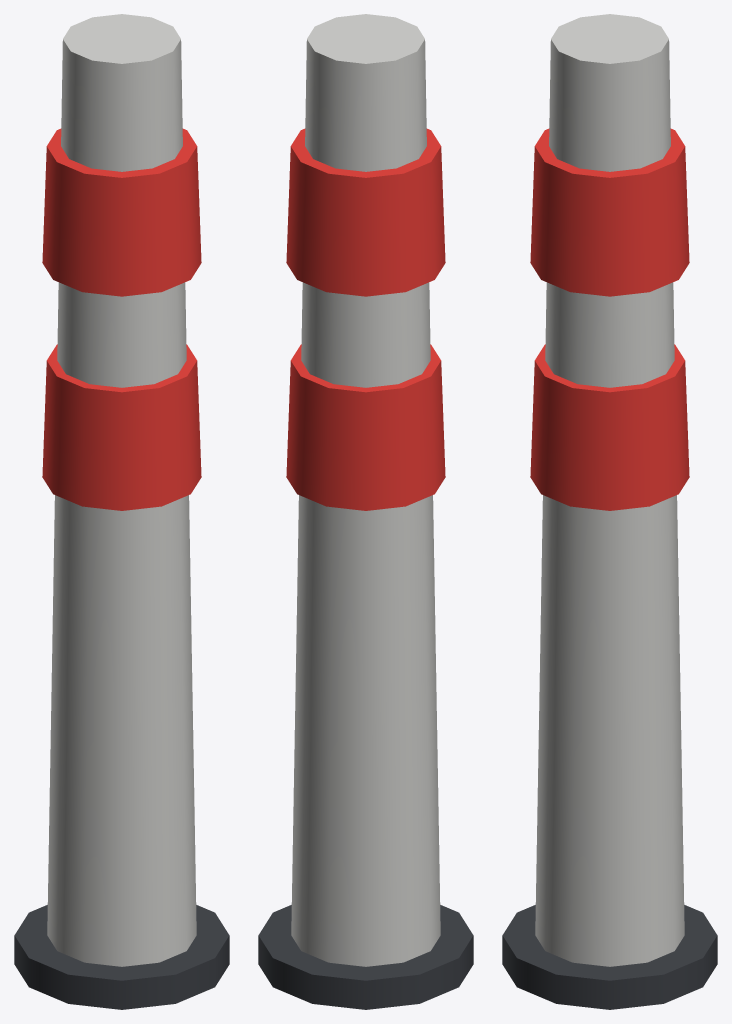
The model's file is prop_street_bollard_flex.glb.
3 views of the same model, side by side, from view 1: azimuth 30°, elevation 25°; view 2: azimuth 150°, elevation 25°; view 3: azimuth 270°, elevation 25° (orthographic).
Parts seen in each view (by area): view 1: bollard_flex; view 2: bollard_flex; view 3: bollard_flex.
Part boxes in pixels (x1,y1,x2,y2): bollard_flex: [14, 14, 229, 1009]; bollard_flex: [258, 14, 473, 1009]; bollard_flex: [502, 14, 717, 1009].
Size of the model in its own units: 0.2 by 0.95 by 0.2.
